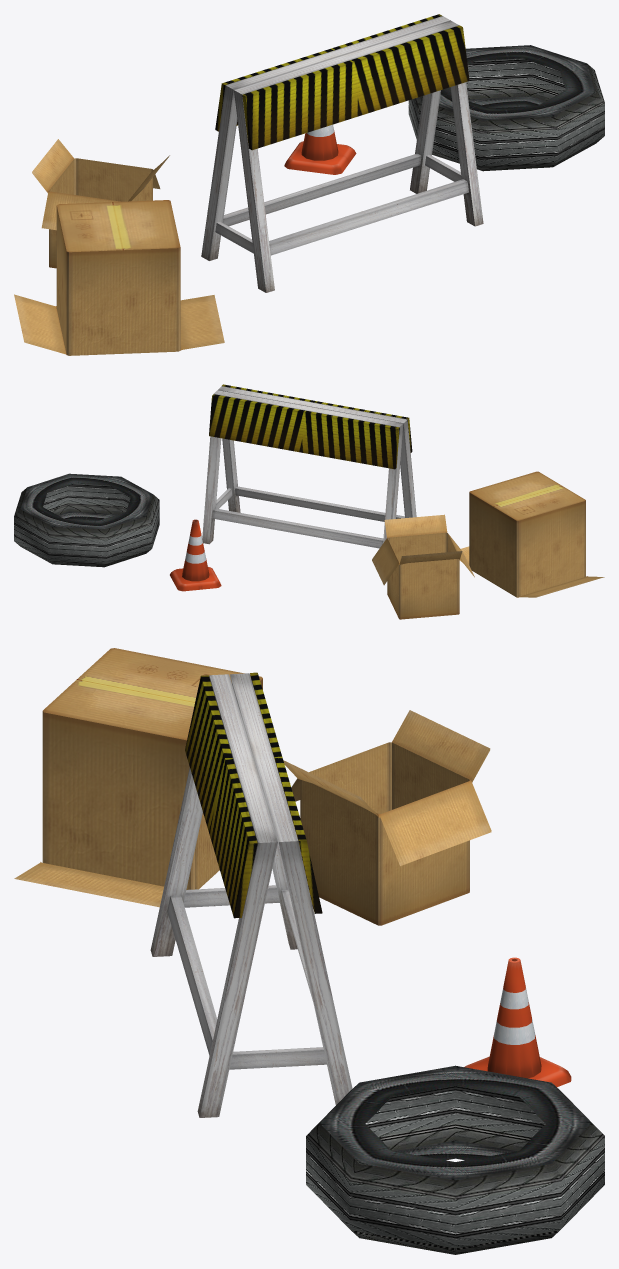
The picture shows the model from 3 angles, top to bottom: view 1: azimuth 30°, elevation 25°; view 2: azimuth 150°, elevation 25°; view 3: azimuth 270°, elevation 25°; orthographic projection. The views are drawn at different scales.
Parts seen in each view (by area): view 1: Object001, Paper_box02, HR_race_wheel, Box001, Traffic_cone; view 2: Object001, Paper_box02, HR_race_wheel, Box001, Traffic_cone; view 3: HR_race_wheel, Object001, Paper_box02, Box001, Traffic_cone.
Part boxes in pixels (x1,y1,x2,y2): Object001: [201, 14, 483, 292]; Paper_box02: [14, 200, 224, 355]; HR_race_wheel: [408, 45, 604, 171]; Box001: [32, 139, 169, 268]; Traffic_cone: [284, 124, 356, 174]; Object001: [202, 384, 416, 548]; Paper_box02: [459, 471, 604, 597]; HR_race_wheel: [14, 473, 159, 567]; Box001: [372, 514, 474, 619]; Traffic_cone: [170, 519, 221, 591]; HR_race_wheel: [306, 1065, 604, 1254]; Object001: [150, 672, 352, 1117]; Paper_box02: [14, 648, 290, 907]; Box001: [283, 710, 491, 925]; Traffic_cone: [464, 957, 571, 1087].
Size of the model in its own units: 514 by 135 by 264.
3 materials, 3 textured.
